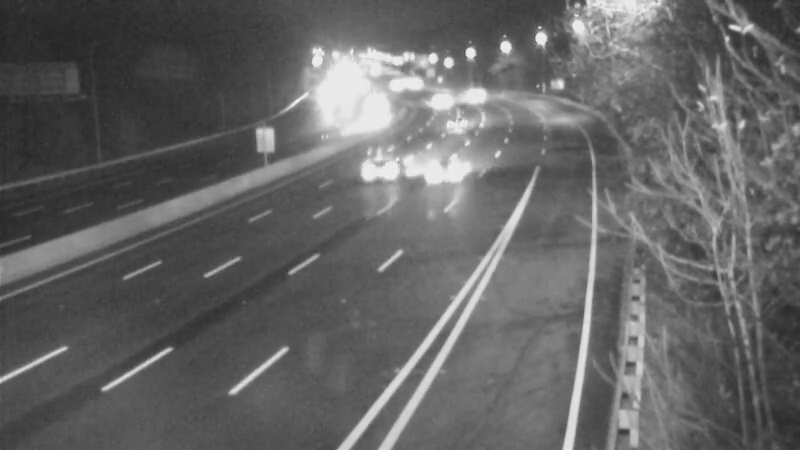vehicle: (418, 128, 498, 208), (351, 125, 431, 205), (455, 68, 505, 118), (411, 73, 461, 123), (432, 99, 482, 149), (346, 87, 396, 137)
